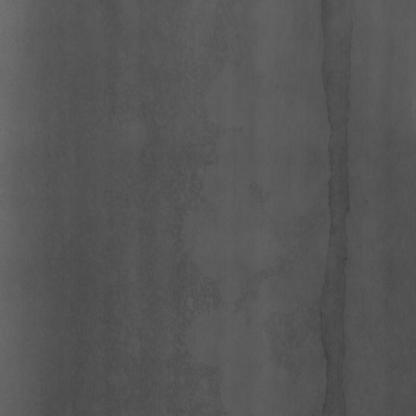water_spot: (294, 18, 362, 416)
